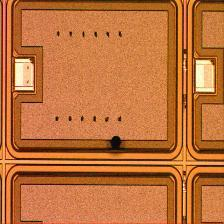PARTICLE: (107, 134, 127, 154)
